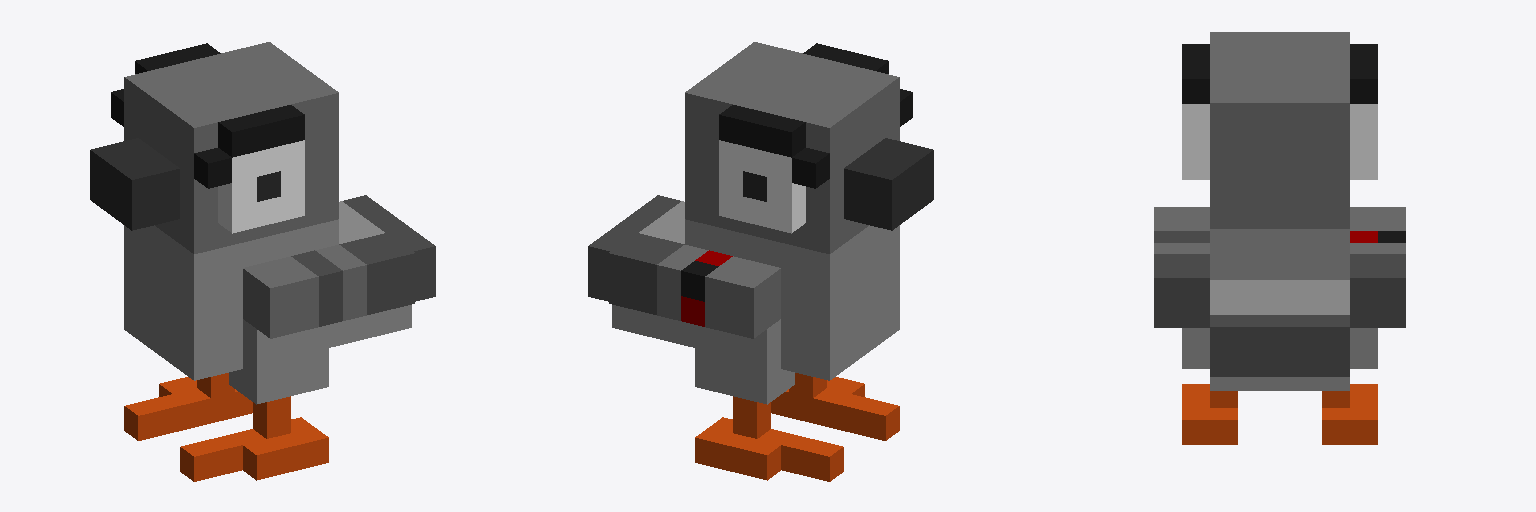
3 views of the same model, side by side, from view 1: azimuth 30°, elevation 25°; view 2: azimuth 150°, elevation 25°; view 3: azimuth 270°, elevation 25° (orthographic).
Visible parts, largest first — view 1: Matrix_12; view 2: Matrix_12; view 3: Matrix_12.
Part boxes in pixels (bbox=[...]): Matrix_12: bbox=[90, 42, 435, 481]; Matrix_12: bbox=[588, 42, 933, 481]; Matrix_12: bbox=[1154, 32, 1405, 444].
Size of the model in its own units: 12 by 14 by 9.
Materials: 1 (1 with a texture image).